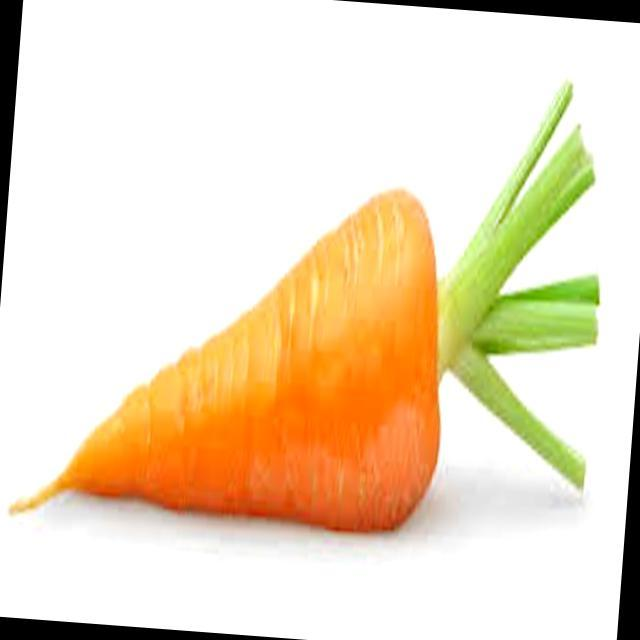carrot: (10, 84, 599, 531)
